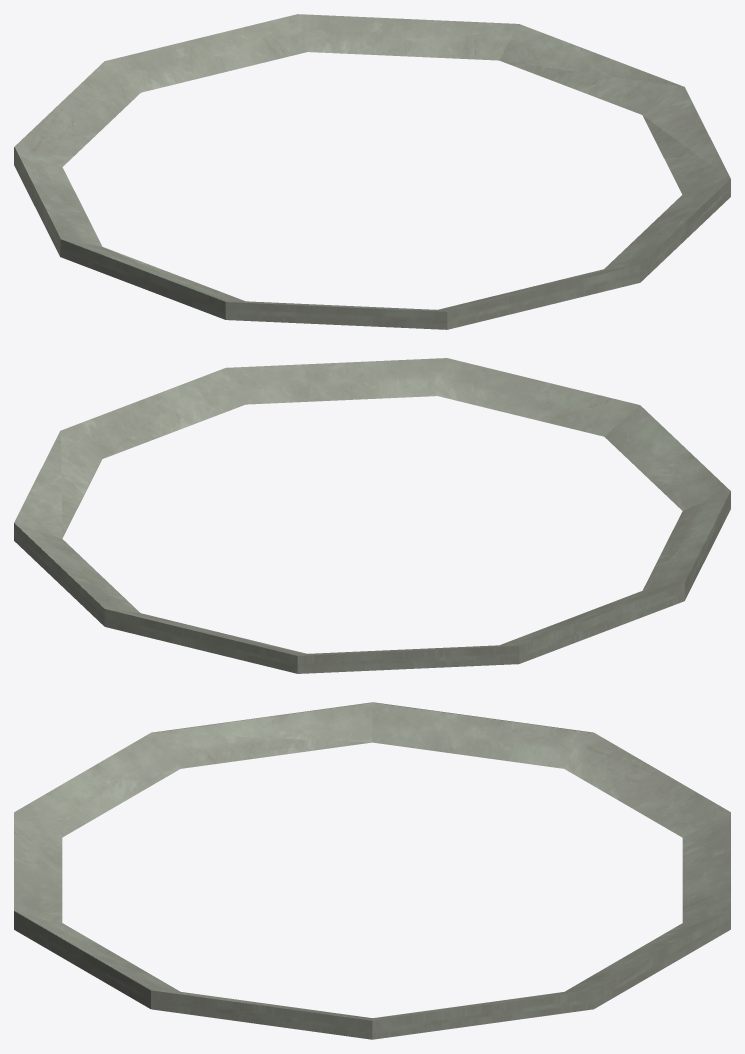
Rendered from Ramp (1).fbx.
3 renders of one model, top to bottom at view 1: azimuth 30°, elevation 25°; view 2: azimuth 150°, elevation 25°; view 3: azimuth 270°, elevation 25°, orthographic. The views are drawn at different scales.
Parts seen in each view (by area): view 1: SM_MERGED_Ramp17_2; view 2: SM_MERGED_Ramp17_2; view 3: SM_MERGED_Ramp17_2.
Part boxes in pixels (x1,y1,x2,y2): SM_MERGED_Ramp17_2: [14, 14, 730, 329]; SM_MERGED_Ramp17_2: [14, 358, 730, 673]; SM_MERGED_Ramp17_2: [14, 702, 730, 1039].
Size of what is drawn, in the model's own units: 2175 by 2067 by 59.67.
